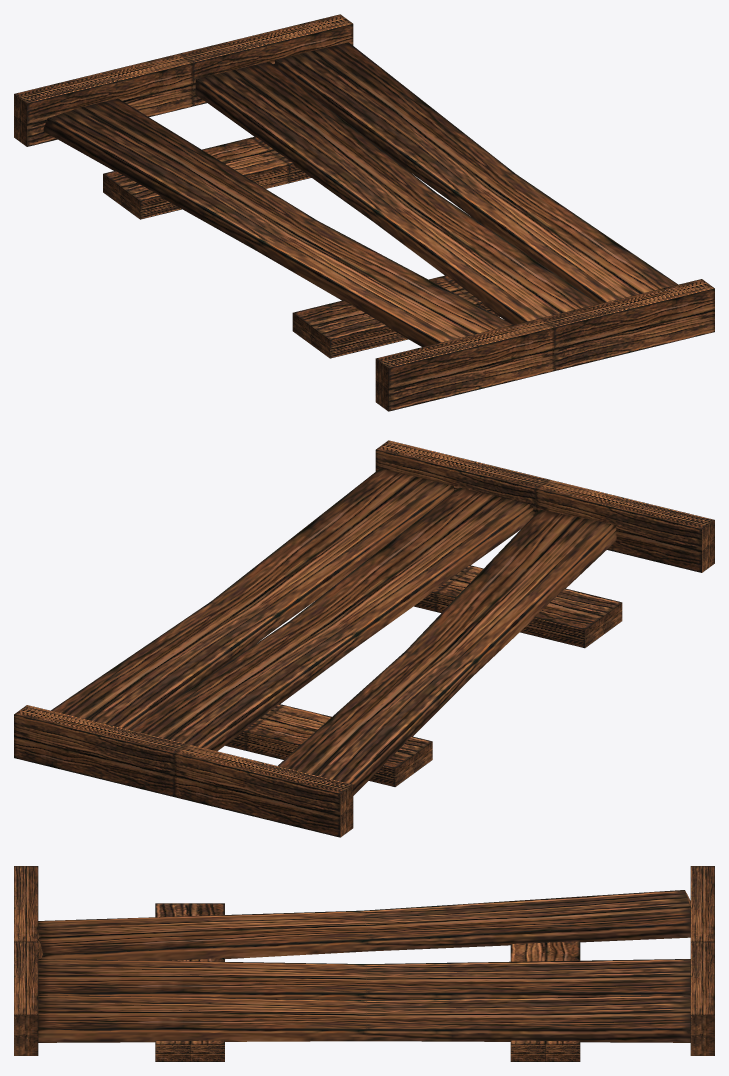
File: RM_FLOATING_PLATFORM03.fbx
3 renders of one model, top to bottom at view 1: azimuth 30°, elevation 25°; view 2: azimuth 150°, elevation 25°; view 3: azimuth 270°, elevation 25°, orthographic. The views are drawn at different scales.
Visible parts, largest first — view 1: RM_FLOATING_PLATFORM03; view 2: RM_FLOATING_PLATFORM03; view 3: RM_FLOATING_PLATFORM03.
Part boxes in pixels (<box>): RM_FLOATING_PLATFORM03: <box>14,14,714,411</box>; RM_FLOATING_PLATFORM03: <box>14,440,714,837</box>; RM_FLOATING_PLATFORM03: <box>14,866,714,1061</box>.
Bounding box in the file's own units: 18013 × 2635 × 35801.
Materials: 1 (1 with a texture image).
